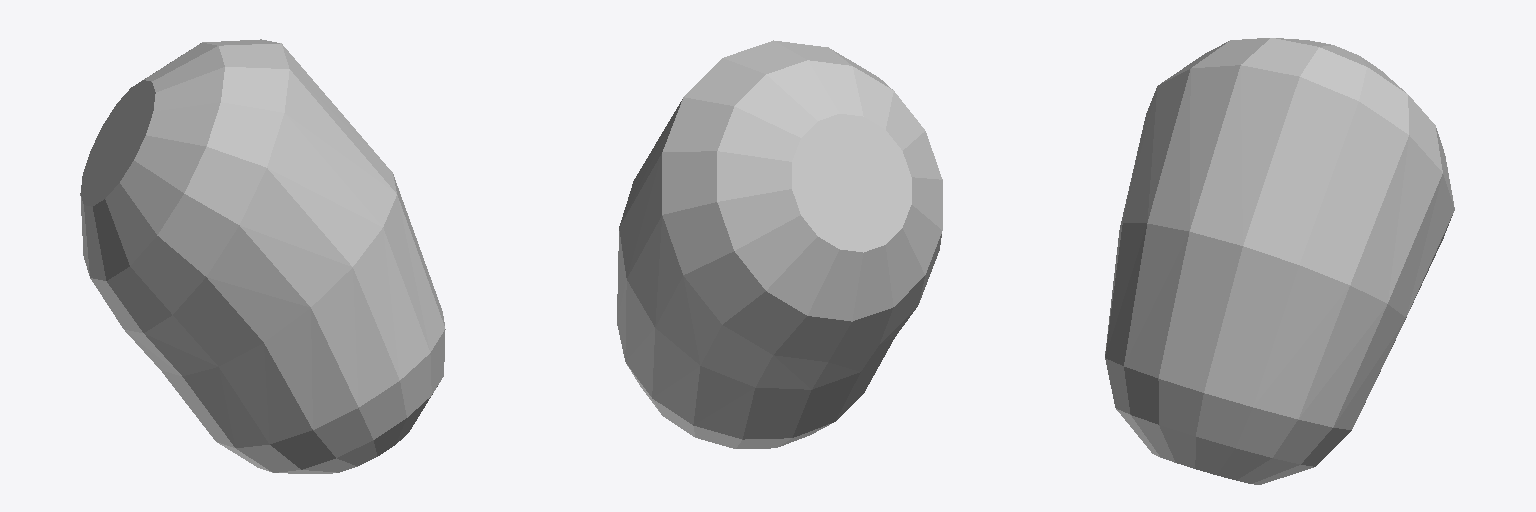
Rendered from RLU.obj.
The picture shows the model from 3 angles: view 1: azimuth 30°, elevation 25°; view 2: azimuth 150°, elevation 25°; view 3: azimuth 270°, elevation 25°; orthographic projection.
Parts seen in each view (by area): view 1: al:uplegL; view 2: al:uplegL; view 3: al:uplegL.
Part boxes in pixels (bbox=[...]): al:uplegL: bbox=[80, 39, 445, 473]; al:uplegL: bbox=[617, 40, 942, 448]; al:uplegL: bbox=[1105, 38, 1454, 484].
Bounding box in the file's own units: 1.1 × 1.38 × 1.09.